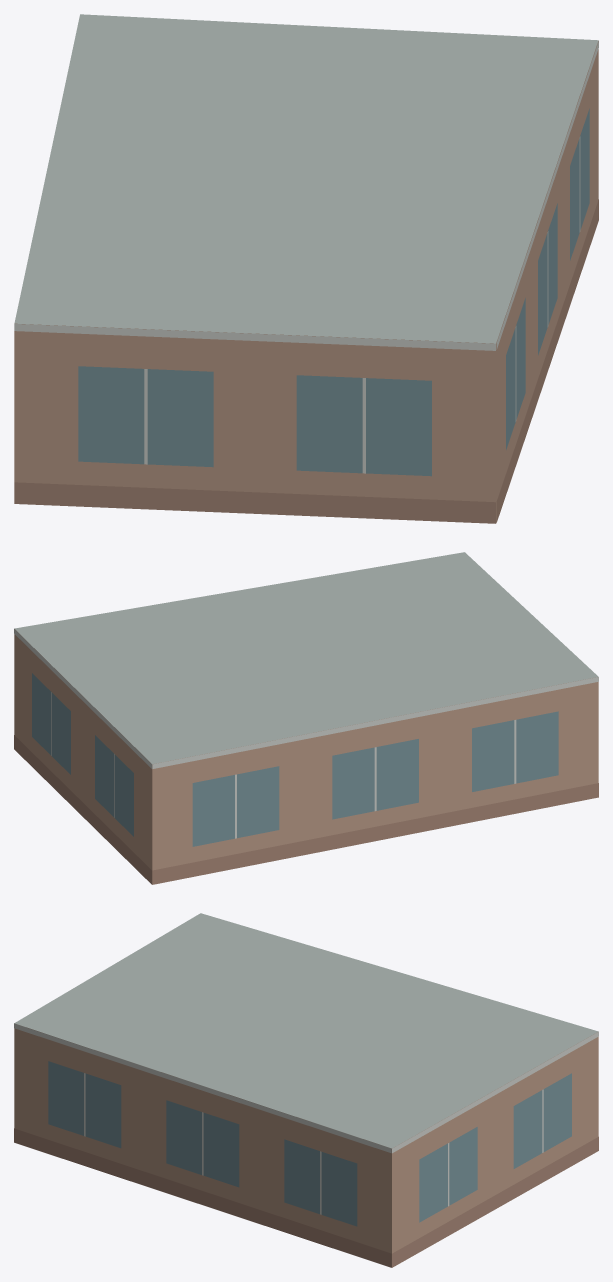
Rendered from survey-upis-32970101.glb.
3 views of the same model, one above another, from view 1: azimuth 30°, elevation 25°; view 2: azimuth 150°, elevation 25°; view 3: azimuth 270°, elevation 25° (orthographic). The views are drawn at different scales.
Visible parts, largest first — view 1: survey-upis-32970101.tmp; view 2: survey-upis-32970101.tmp; view 3: survey-upis-32970101.tmp.
Part boxes in pixels (x1=…): survey-upis-32970101.tmp: x1=14, y1=14, x2=598, y2=523; survey-upis-32970101.tmp: x1=14, y1=552, x2=598, y2=884; survey-upis-32970101.tmp: x1=14, y1=913, x2=598, y2=1267.
Size of the model in its own units: 12.92 by 3.05 by 13.56.
